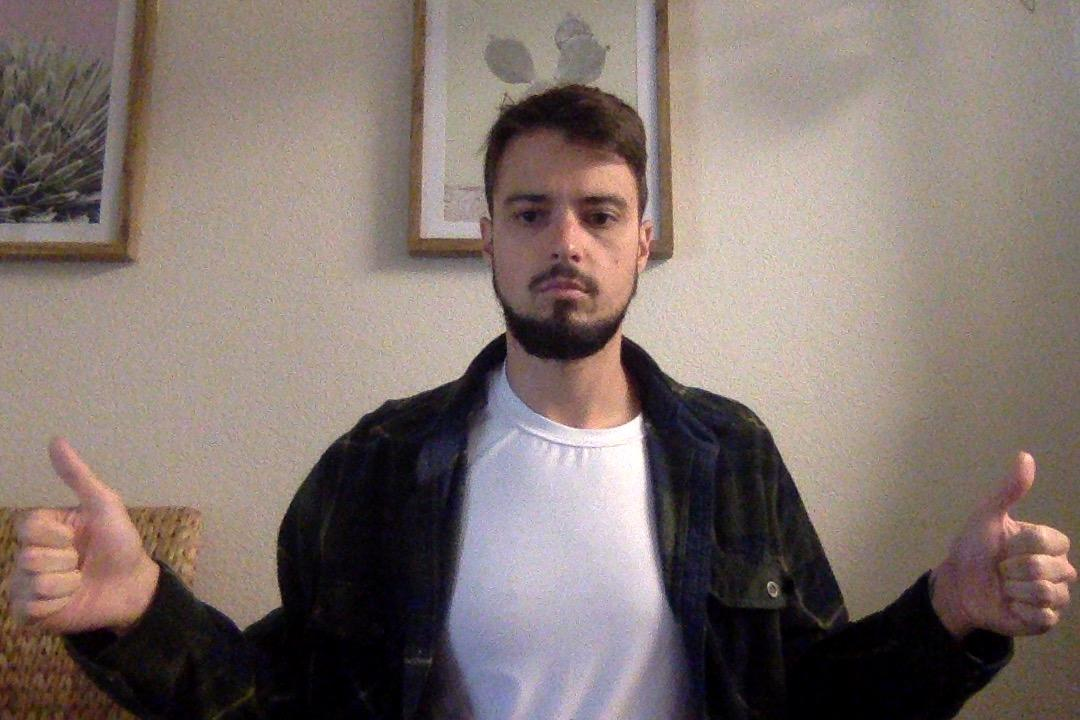Thumbs-Up: (6, 429, 168, 651), (935, 438, 1080, 639)
